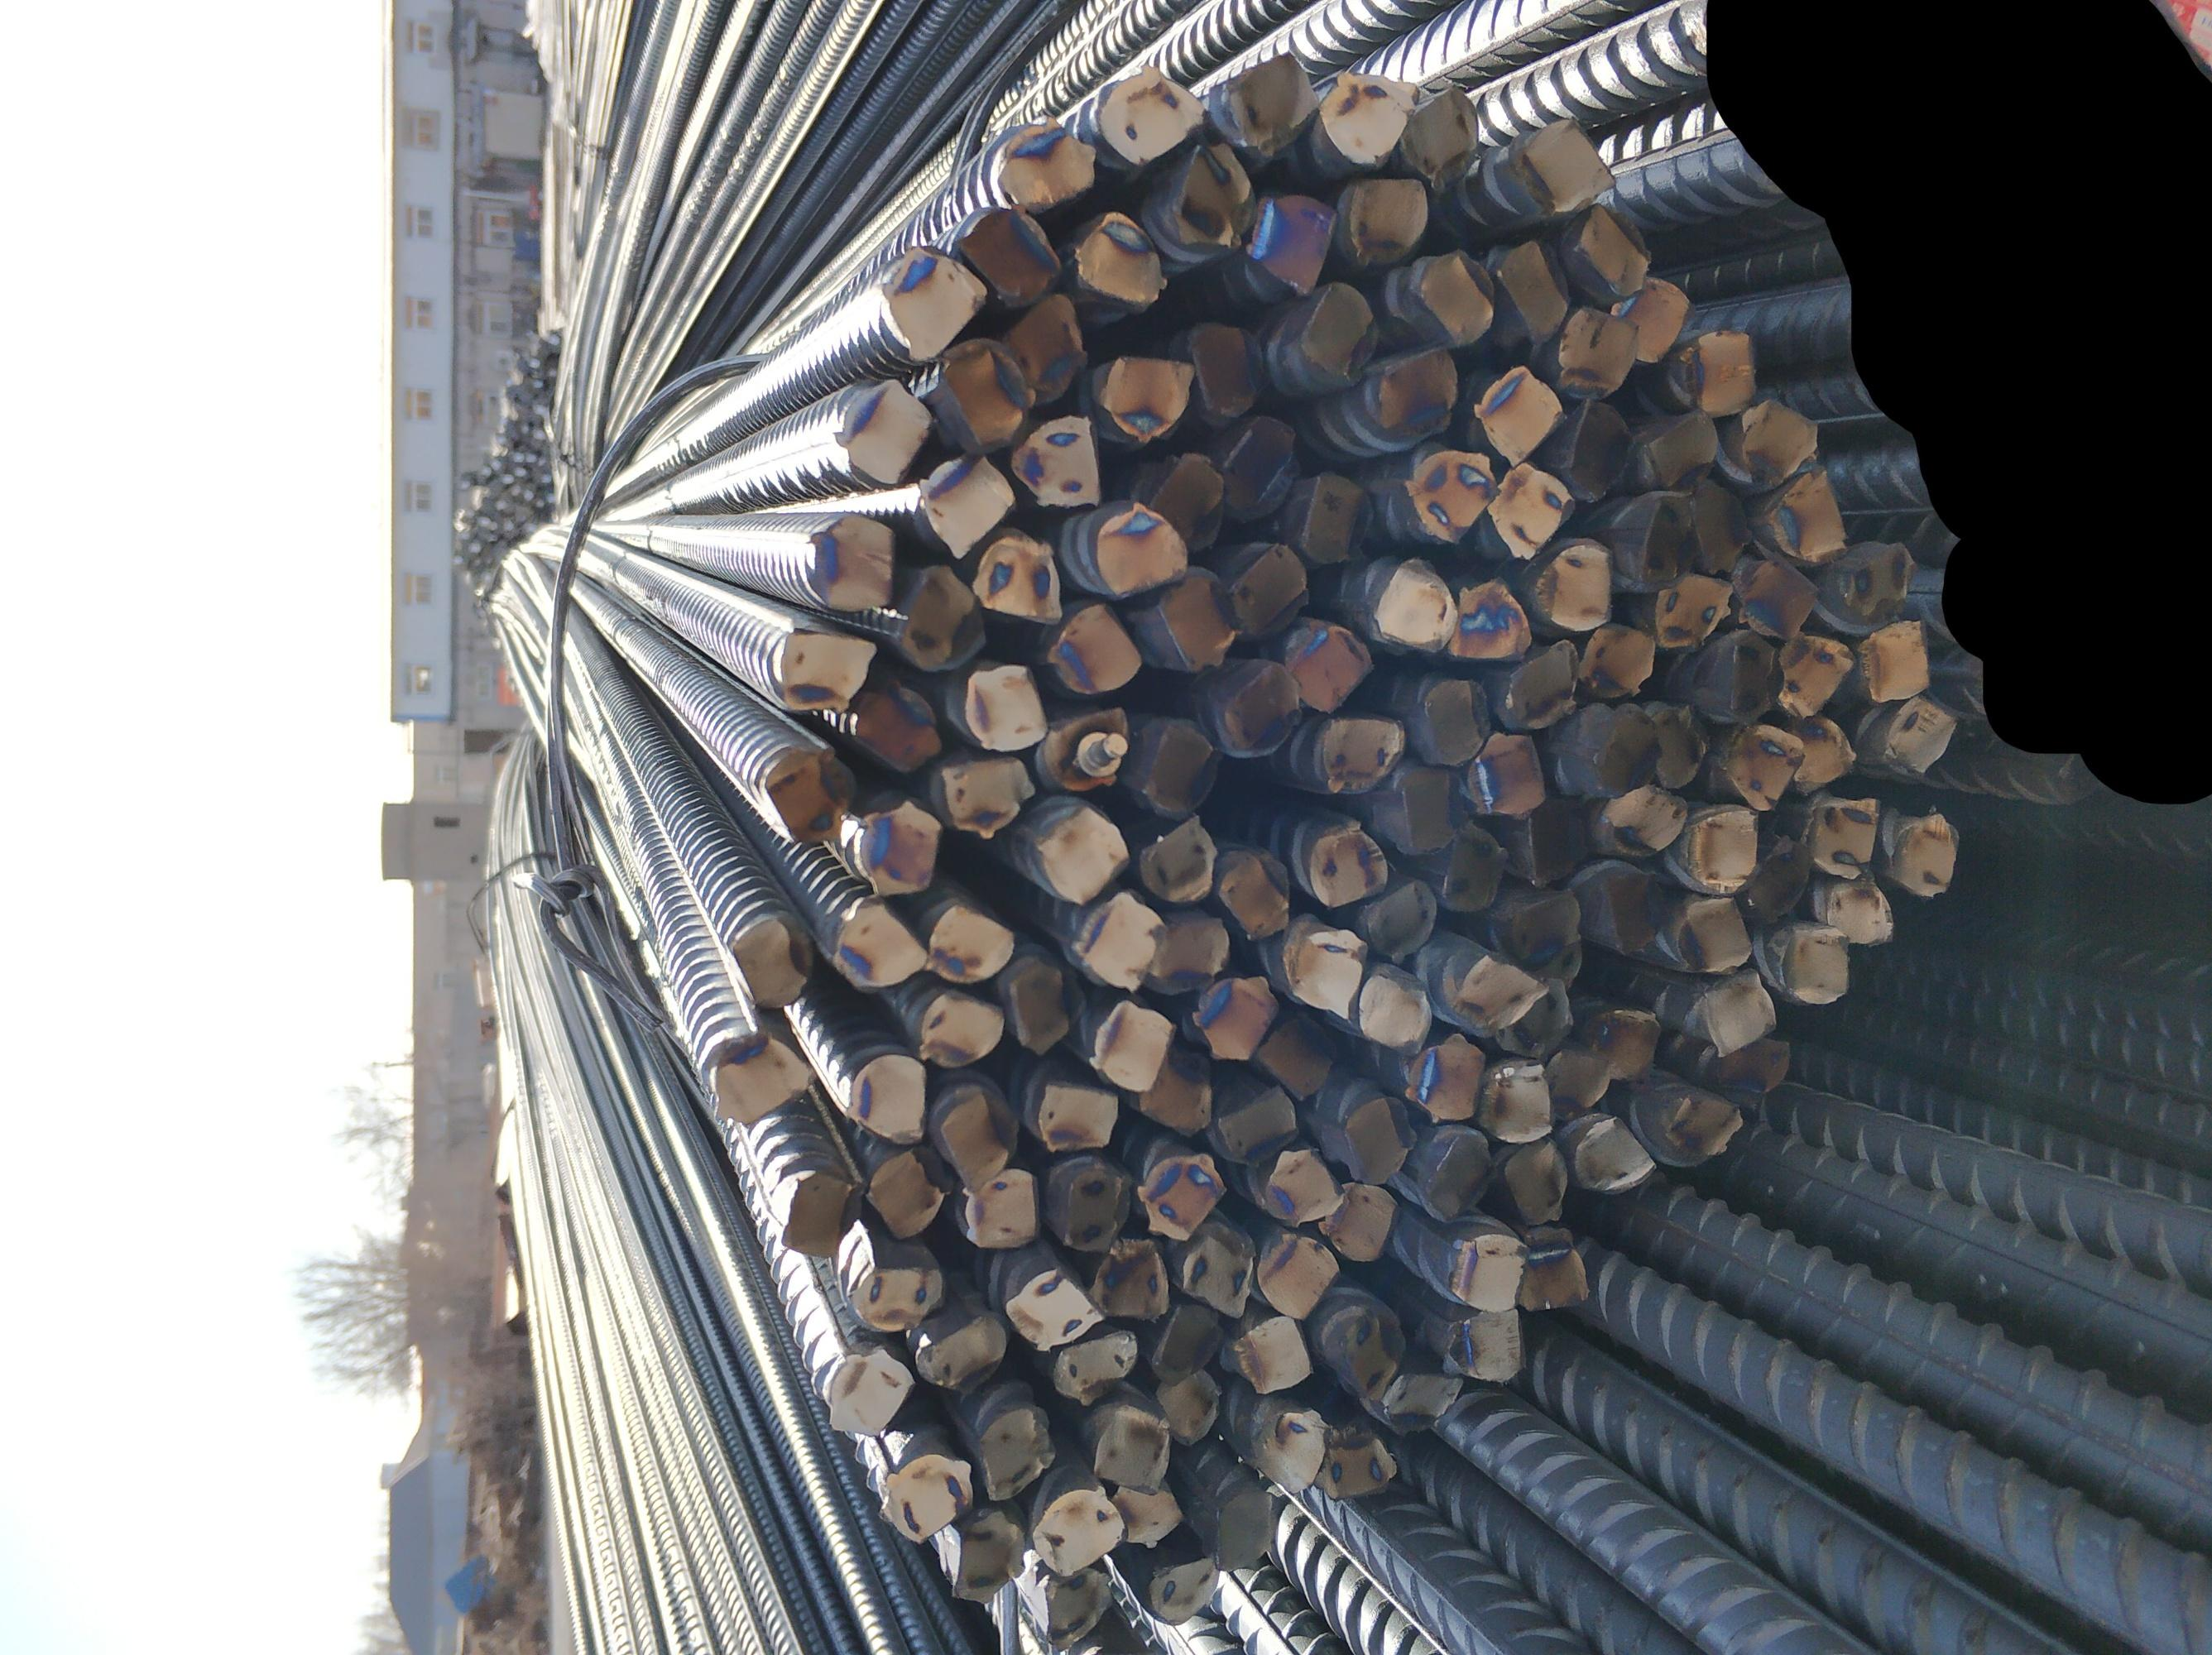bar: (881, 242, 987, 363), (916, 445, 1017, 563), (1096, 61, 1208, 167), (1244, 181, 1341, 296), (935, 336, 1036, 445), (897, 560, 990, 675), (1517, 111, 1618, 217), (1069, 209, 1173, 308), (834, 376, 930, 483), (705, 1031, 813, 1127), (1001, 294, 1091, 407), (1222, 50, 1321, 153), (829, 894, 930, 993), (1474, 358, 1571, 461), (996, 115, 1100, 210), (957, 205, 1058, 302), (874, 1448, 975, 1545), (1321, 68, 1418, 169), (1008, 407, 1103, 509), (1096, 348, 1195, 443), (810, 509, 902, 612), (857, 791, 944, 899), (1404, 445, 1498, 542), (1185, 313, 1267, 424), (1095, 499, 1190, 593), (822, 1346, 917, 1439), (1131, 1146, 1229, 1238), (1279, 615, 1371, 713), (970, 534, 1069, 624), (1150, 568, 1237, 671), (1176, 139, 1256, 250), (763, 748, 853, 845), (1003, 1264, 1102, 1353), (1371, 553, 1458, 654), (1395, 83, 1480, 186), (1298, 275, 1380, 381), (940, 754, 1037, 843), (1529, 537, 1616, 636), (775, 626, 876, 711), (1218, 657, 1303, 758), (1036, 805, 1126, 899), (1340, 172, 1430, 266), (1145, 445, 1225, 551), (1072, 894, 1159, 991), (938, 1083, 1017, 1191), (1140, 715, 1223, 815), (977, 1403, 1056, 1507), (963, 659, 1053, 751), (1050, 600, 1140, 692), (1030, 1486, 1124, 1575), (1190, 972, 1277, 1067), (1220, 412, 1296, 520), (1487, 455, 1569, 556), (1229, 535, 1308, 638), (1373, 348, 1463, 438), (923, 897, 1015, 986), (1562, 393, 1639, 499), (1611, 268, 1692, 367), (1411, 1121, 1491, 1222), (730, 914, 815, 1008), (1086, 994, 1171, 1088), (846, 1048, 930, 1144), (947, 1507, 1029, 1605), (1449, 951, 1546, 1033), (1494, 235, 1569, 341), (1296, 468, 1376, 567), (1039, 704, 1129, 791), (1734, 551, 1821, 641), (1765, 468, 1851, 560), (1089, 1401, 1173, 1495), (1418, 252, 1500, 348), (1501, 638, 1581, 735), (1559, 297, 1637, 396), (1852, 614, 1939, 702), (853, 683, 944, 768), (1317, 711, 1407, 796), (1738, 396, 1819, 490), (848, 1257, 945, 1335), (919, 1311, 1008, 1396), (1501, 892, 1585, 982), (1255, 1227, 1336, 1319), (1135, 1041, 1215, 1135), (1682, 796, 1762, 890), (1724, 720, 1804, 814), (1340, 1088, 1414, 1187), (1289, 923, 1362, 1024), (1055, 1158, 1133, 1252), (1319, 1173, 1397, 1267), (1576, 205, 1651, 302), (1218, 1078, 1301, 1165), (1447, 575, 1534, 659), (864, 1149, 944, 1240), (1401, 1027, 1480, 1118), (1586, 702, 1666, 793), (1465, 730, 1550, 814), (1255, 1010, 1336, 1097), (1774, 626, 1851, 718), (1359, 876, 1440, 961), (1048, 1326, 1136, 1405), (1593, 867, 1672, 956), (1446, 1224, 1520, 1316), (1418, 671, 1493, 763), (1394, 761, 1467, 855), (919, 986, 1003, 1067), (959, 1165, 1039, 1250), (1136, 814, 1215, 901), (1255, 1401, 1328, 1493), (1088, 1236, 1168, 1319), (1234, 1313, 1314, 1396), (1036, 1566, 1116, 1650), (1496, 972, 1576, 1055), (1143, 916, 1229, 994), (1800, 794, 1878, 880), (1637, 490, 1703, 591), (1498, 1133, 1569, 1226), (1262, 1144, 1343, 1224), (1602, 782, 1687, 859), (1779, 708, 1856, 793), (1215, 850, 1289, 937), (1689, 325, 1758, 417), (1571, 1116, 1652, 1194), (1442, 1306, 1526, 1382), (1178, 1231, 1253, 1316), (1838, 537, 1913, 622), (1338, 1309, 1406, 1403), (1720, 629, 1788, 723), (1652, 1085, 1741, 1156), (1746, 831, 1816, 921), (1512, 1233, 1592, 1311), (1649, 568, 1727, 648), (1477, 1057, 1552, 1140), (1034, 1078, 1119, 1151), (1703, 967, 1776, 1052), (1882, 694, 1955, 779), (1008, 958, 1070, 1057), (1892, 812, 1964, 899), (1578, 621, 1654, 701), (1308, 826, 1390, 901), (1380, 1365, 1463, 1438), (1440, 824, 1510, 911), (1640, 701, 1710, 788), (1689, 475, 1750, 574), (1527, 793, 1590, 888), (1359, 970, 1430, 1053), (1646, 409, 1722, 485), (1143, 1551, 1223, 1624), (1779, 925, 1852, 1005), (1152, 1304, 1223, 1386), (780, 1172, 848, 1257), (1324, 1424, 1399, 1500), (1679, 895, 1752, 974), (1588, 1008, 1659, 1080), (1213, 1483, 1272, 1568), (1154, 1368, 1218, 1446), (1109, 1478, 1180, 1547), (1825, 880, 1896, 947), (1540, 1048, 1614, 1107), (1717, 1034, 1790, 1093)
